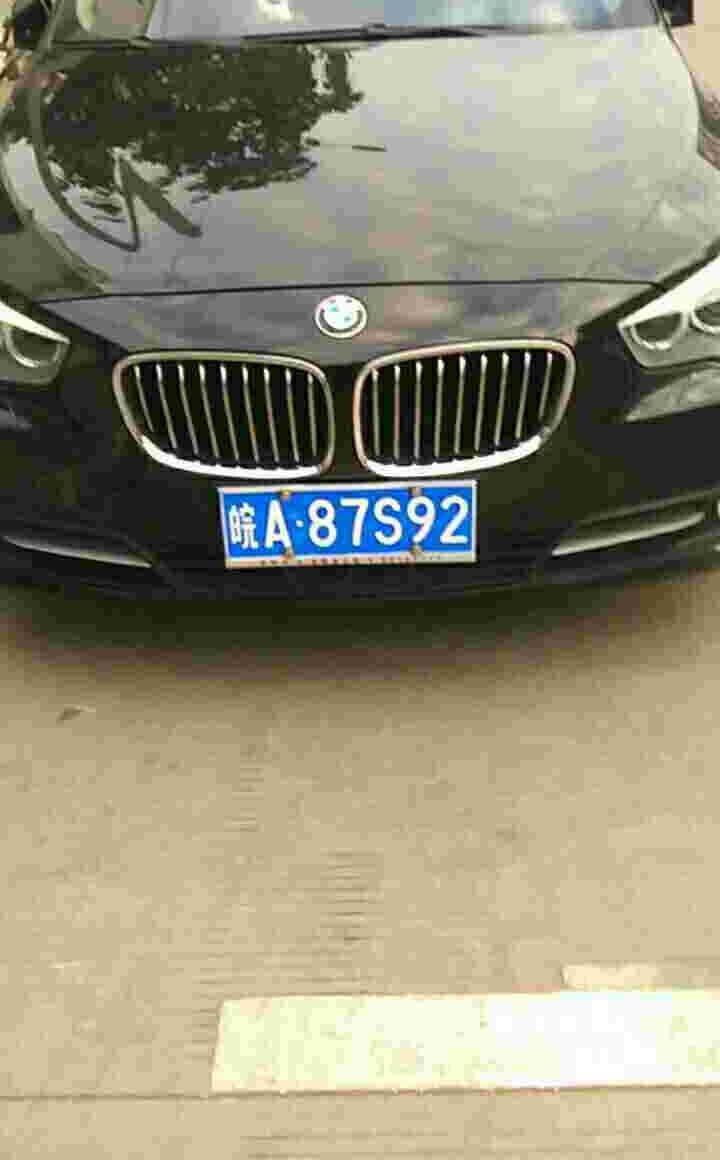license_plate: (220, 481, 481, 548)
